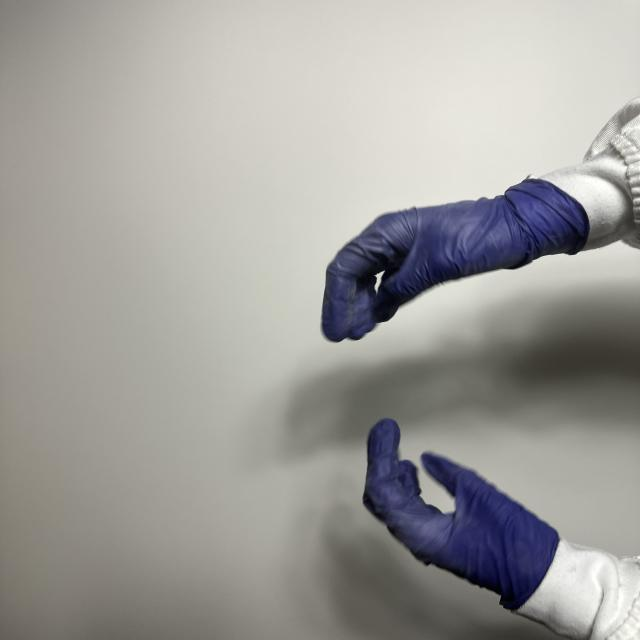gloves_contaminated: (322, 180, 588, 342), (363, 419, 560, 610)
